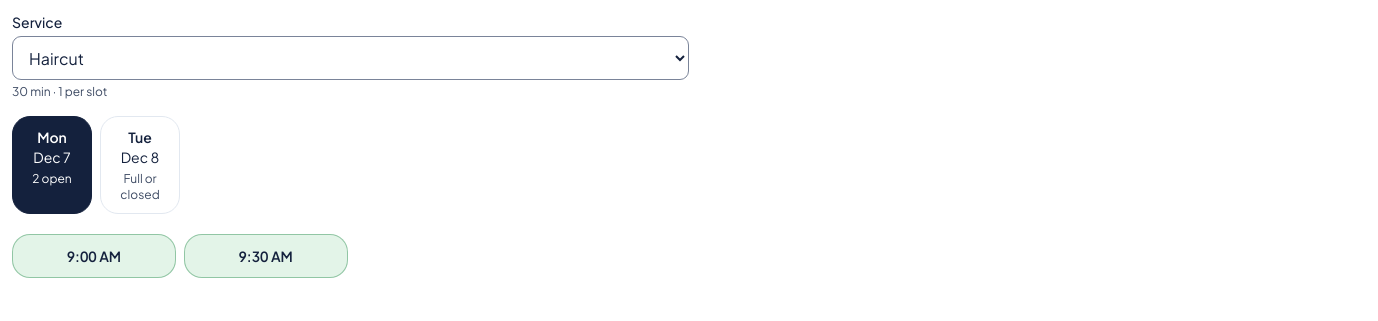
Test: SlotPreview › shows open times for the picked day, and an empty state for a full day
Expected: the list named "Open times on Mon, Dec 7" reads "9:00 AM 9:30 AM", [12,234,348,278]
Click the button "Tue Dec 8 Full or closed" at (140, 165), box [100,116,180,214]
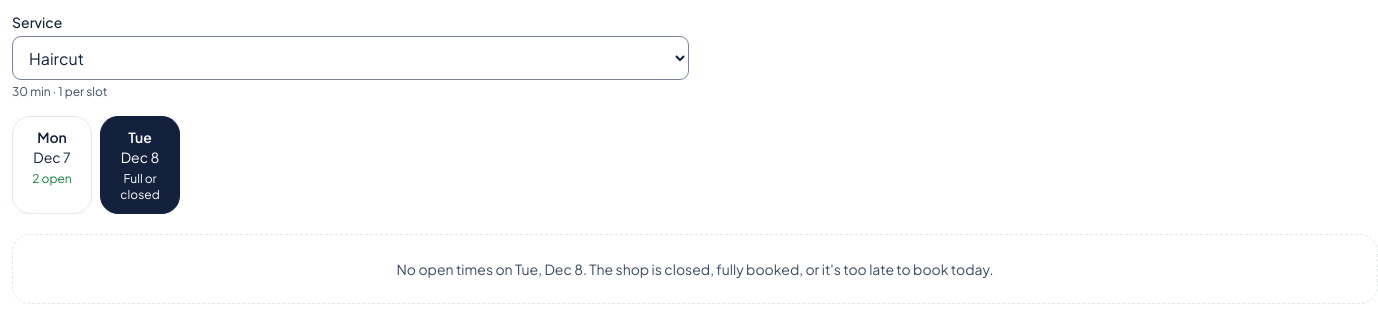
Result: the text "No open times on Tue, Dec 8" is shown at [12,234,1377,304]
